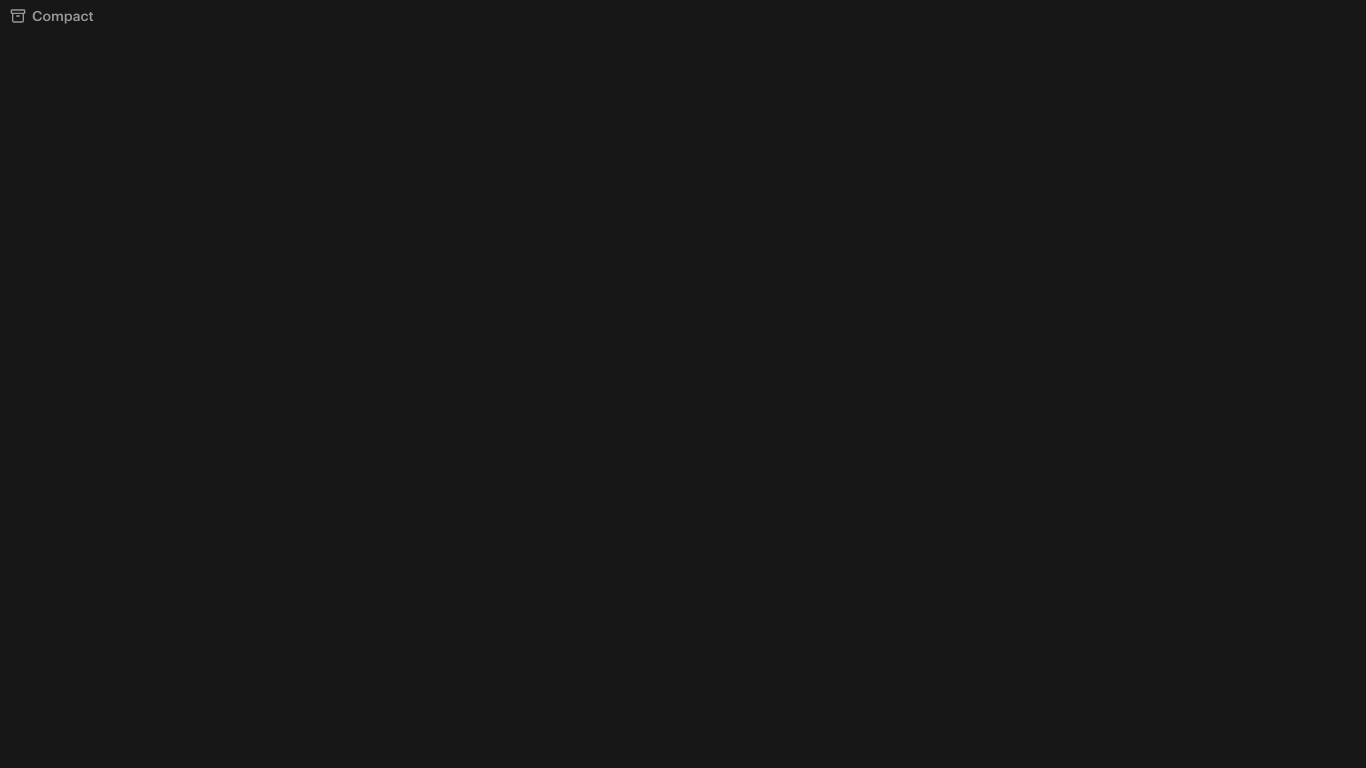
v2 CompactButton › opens the compact modal
Click the button with aria-label "Compact conversation": (52, 16) [0, 0, 104, 32]
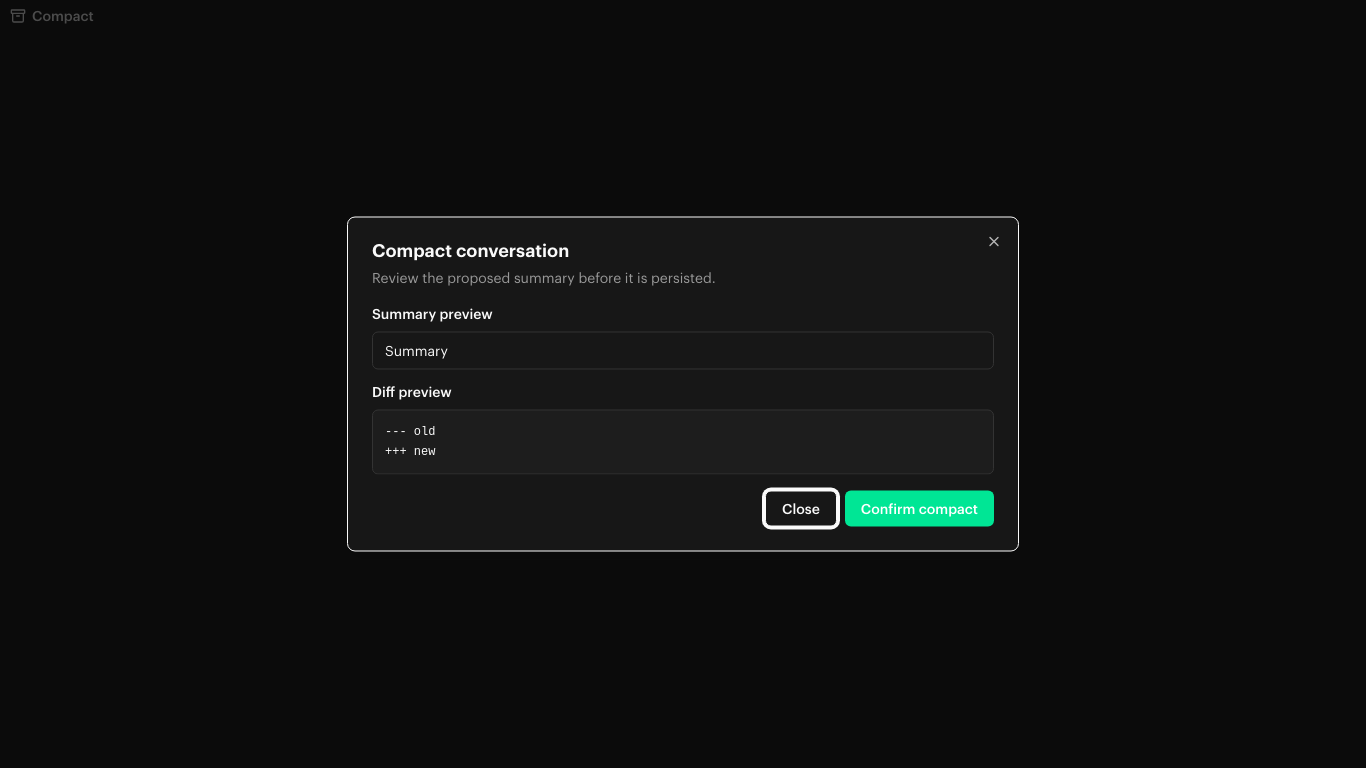
Check: the dialog is shown, box [347, 216, 1019, 552]
Check: the text "Summary" is shown, box [372, 332, 994, 370]
